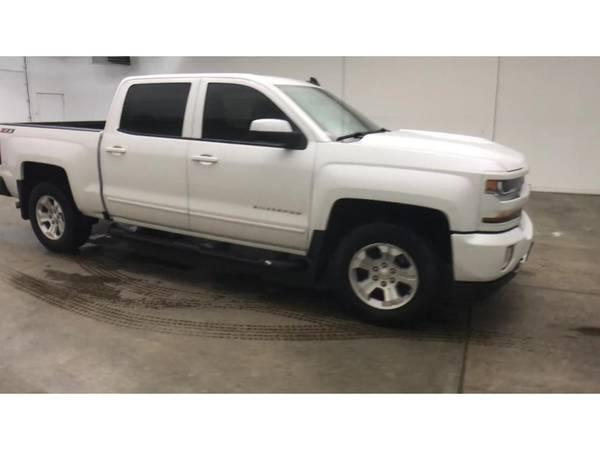Front_Bumper: (451, 213, 534, 285)
Front_Fender: (304, 145, 482, 260)
Front_Right_Door: (187, 136, 316, 263)
Front_Right_Window: (192, 78, 314, 147)
Front_Windshield: (274, 82, 392, 138)
Hood: (325, 128, 529, 175)
Rear_Fender: (1, 122, 110, 221)
Rear_Right_Door: (99, 125, 190, 241)
Rear_Right_Window: (117, 78, 199, 135)
Right_Headlight: (479, 172, 527, 234)
Roof: (104, 67, 333, 146)
Wheel: (332, 223, 439, 326), (26, 181, 92, 251)
